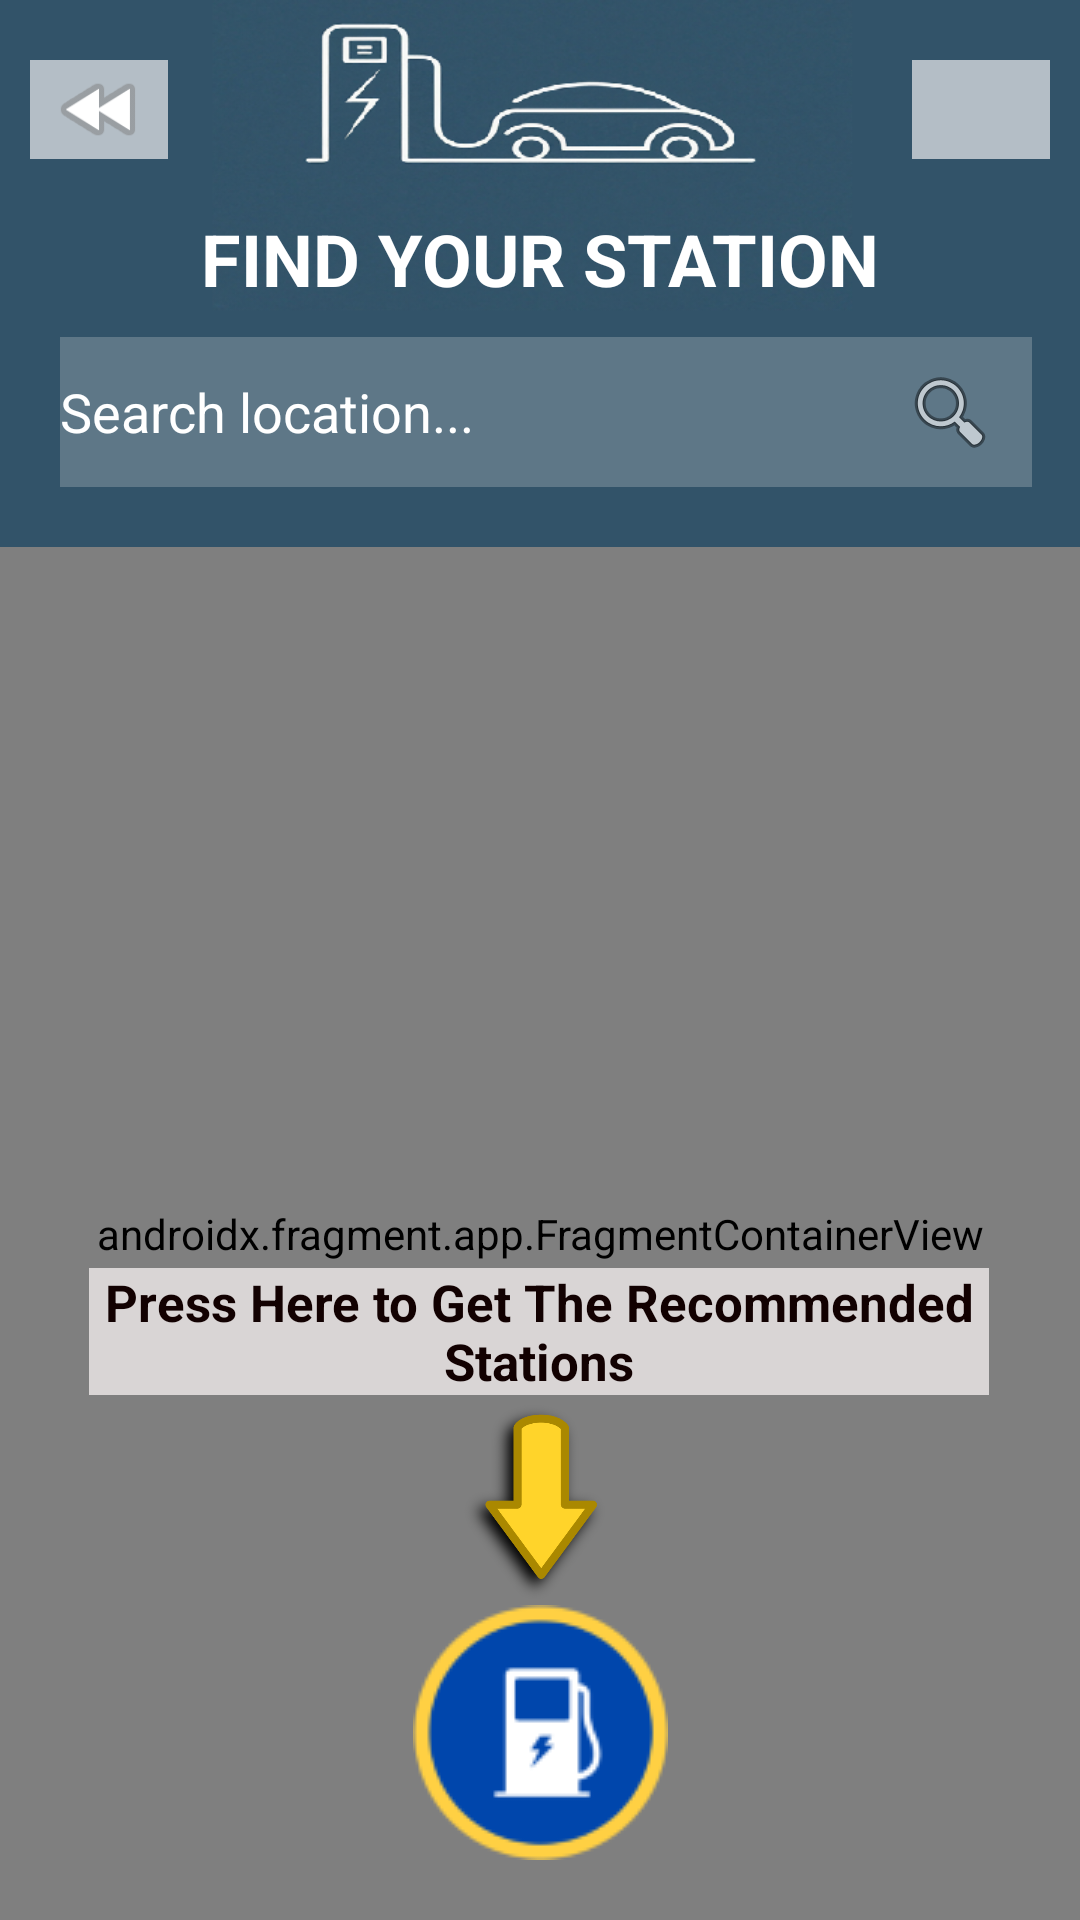

Icons on this 1080x1920 Android screen, each with the point to tap as (x=x, y=y):
arrow: (x=537, y=1501)
Find Station: (x=540, y=1732)
rew: (x=99, y=109)
